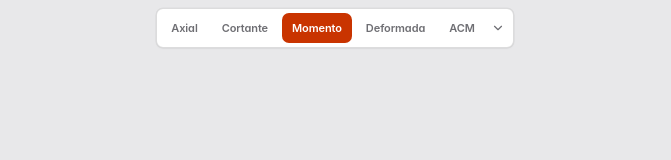
Test: CanvasEvidenceBar › never lets the stack be emptied: the last lane cannot be switched off
Step 1. Click the button named "elegir los diagramas" → (497, 28), box [485, 13, 509, 43]
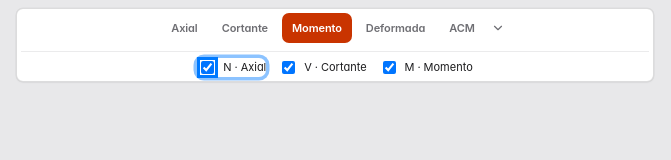
Step 2. Click the checkbox labelled "N · Axial" → (208, 68), box [201, 61, 214, 74]
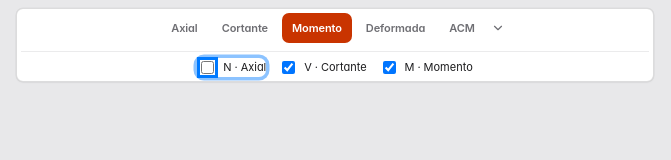
Step 3. Click the checkbox labelled "V · Cortante" → (289, 68), box [282, 61, 295, 74]
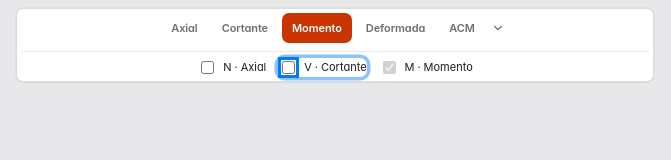
Expected: the checkbox labelled "M · Momento" is checked, [382, 61, 396, 74]
Expected: the checkbox labelled "M · Momento" is disabled, [382, 61, 396, 74]
